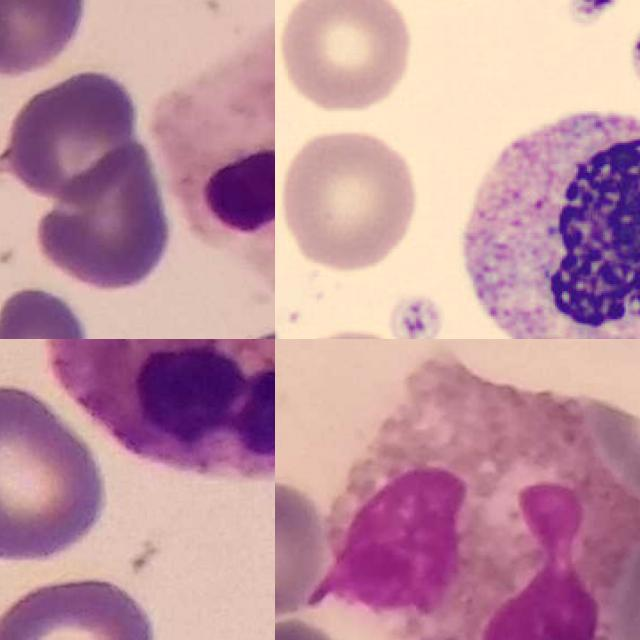Eosinophil: (321, 366, 640, 640)
Monocyte: (446, 92, 640, 339)
Neutrophil: (156, 0, 275, 311), (48, 339, 275, 481)
Platelets: (565, 0, 622, 26), (625, 7, 640, 95)
RBC: (278, 125, 425, 275), (277, 0, 418, 116)
